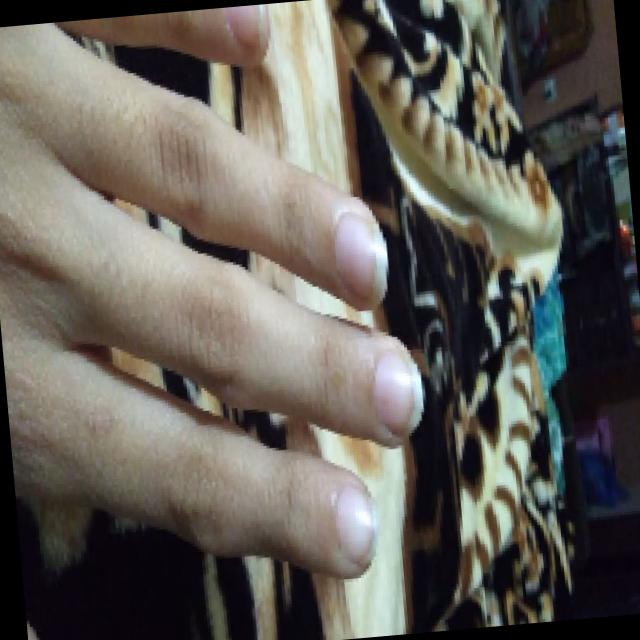Nail: (333, 212, 387, 304), (371, 349, 422, 436), (334, 485, 374, 560), (224, 4, 268, 48)
